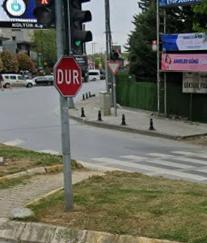stop: (53, 56, 83, 97)
